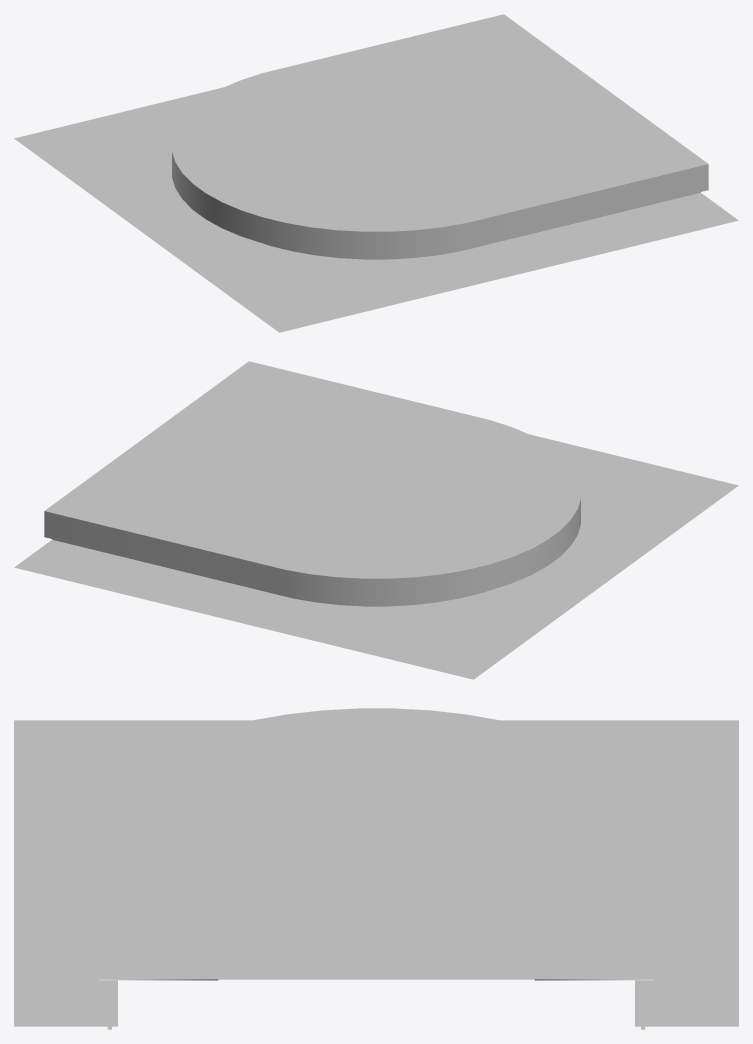
The model's file is Ceiling02_2_350x350cm.FBX.
3 renders of one model, top to bottom at view 1: azimuth 30°, elevation 25°; view 2: azimuth 150°, elevation 25°; view 3: azimuth 270°, elevation 25°, orthographic. The views are drawn at different scales.
Parts seen in each view (by area): view 1: Ceiling; view 2: Ceiling; view 3: Ceiling.
Part boxes in pixels (x1,y1,x2,y2): Ceiling: (14,14,738,332); Ceiling: (14,361,738,679); Ceiling: (14,708,738,1026).
Bounding box in the file's own units: 350 × 26.5 × 350.
